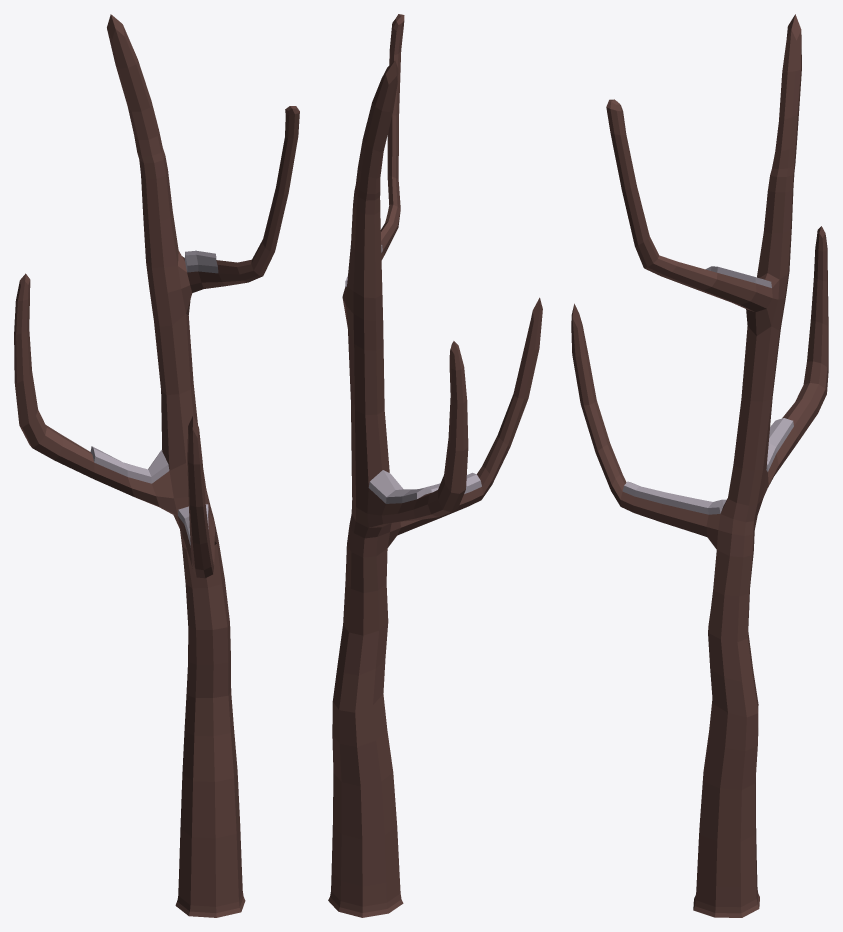
Rendered from CommonTree_Dead_Snow_3.glb.
3 renders of one model, left to right at view 1: azimuth 30°, elevation 25°; view 2: azimuth 150°, elevation 25°; view 3: azimuth 270°, elevation 25°, orthographic. The views are drawn at different scales.
Visible parts, largest first — view 1: CommonTree_Dead_Snow_3_Cube.058; view 2: CommonTree_Dead_Snow_3_Cube.058; view 3: CommonTree_Dead_Snow_3_Cube.058.
Boxes of the visible parts, bbox=[...] form: CommonTree_Dead_Snow_3_Cube.058: bbox=[14, 14, 299, 917]; CommonTree_Dead_Snow_3_Cube.058: bbox=[328, 14, 542, 917]; CommonTree_Dead_Snow_3_Cube.058: bbox=[571, 14, 828, 917].
Bounding box in the file's own units: 0.635 × 3 × 0.8125.
